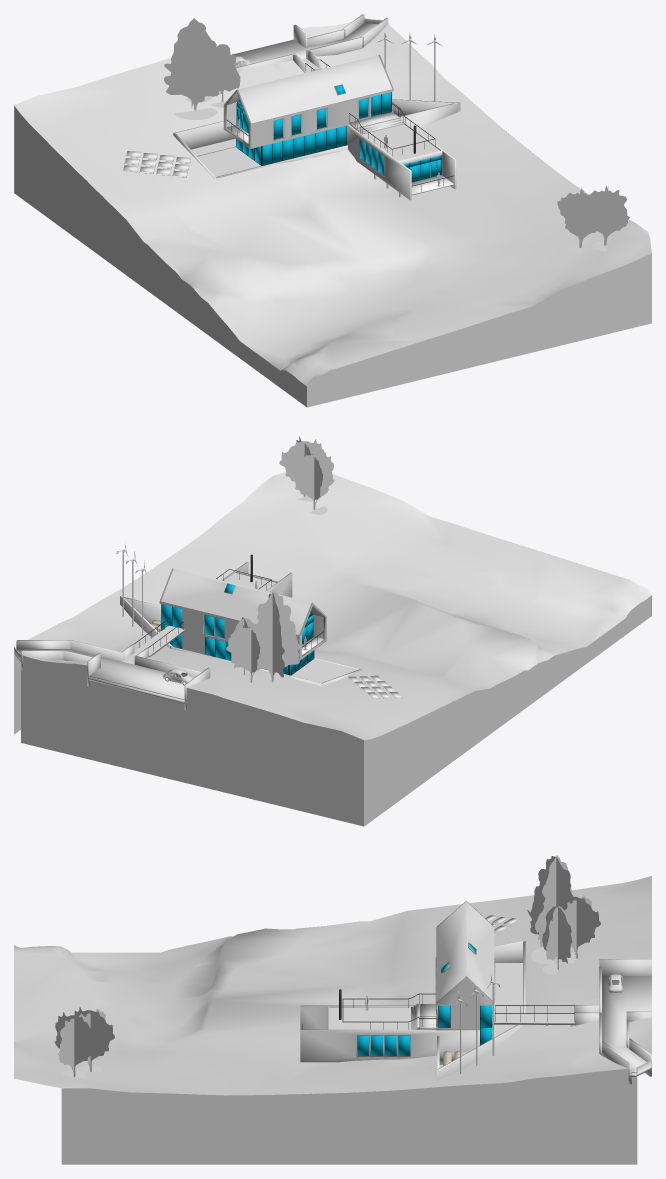
3 renders of one model, top to bottom at view 1: azimuth 30°, elevation 25°; view 2: azimuth 150°, elevation 25°; view 3: azimuth 270°, elevation 25°, orthographic. The views are drawn at different scales.
Visible parts, largest first — view 1: Grass, Earth, Default material, Roofing - Metal Standing Seam, Glass, Concrete, Sand/Cement Screed, Concrete, Cast In Situ, Concrete - Cast In Situ, CL Concrete_ panels, Finishes - Exterior - Timber Cladding, Roofing - Asphalt, Glass - SolarWorld - Tempered Glass (+3 smaller); view 2: Grass, Earth, Default material, Roofing - Metal Standing Seam, Concrete - Cast In Situ, Concrete, Sand/Cement Screed, Concrete, Cast In Situ, Glass, Finishes - Exterior - Timber Cladding, CL Concrete_ panels; view 3: Grass, Earth, Default material, Finishes - Exterior - Timber Cladding, Roofing - Metal Standing Seam, Concrete, Sand/Cement Screed, Concrete, Cast In Situ, Concrete - Cast In Situ, CL Concrete_ panels, Glass, Roofing - Asphalt, Iron, Cast (+2 smaller).
Boxes of the visible parts, <box> form: Grass: <box>14,18,651,385</box>; Earth: <box>14,25,651,407</box>; Default material: <box>164,18,629,253</box>; Roofing - Metal Standing Seam: <box>238,55,391,123</box>; Glass: <box>236,84,441,181</box>; Concrete, Sand/Cement Screed: <box>191,59,393,176</box>; Concrete, Cast In Situ: <box>234,23,460,133</box>; Concrete - Cast In Situ: <box>236,14,388,72</box>; CL Concrete_ panels: <box>173,99,459,178</box>; Finishes - Exterior - Timber Cladding: <box>347,120,456,200</box>; Roofing - Asphalt: <box>362,124,439,160</box>; Glass - SolarWorld - Tempered Glass: <box>123,151,190,175</box>; Grass: <box>14,472,651,740</box>; Earth: <box>14,576,651,826</box>; Default material: <box>14,436,334,703</box>; Roofing - Metal Standing Seam: <box>161,569,311,634</box>; Concrete - Cast In Situ: <box>16,640,210,710</box>; Concrete, Sand/Cement Screed: <box>122,601,357,682</box>; Concrete, Cast In Situ: <box>14,597,185,699</box>; Glass: <box>161,583,313,675</box>; Finishes - Exterior - Timber Cladding: <box>182,562,292,654</box>; CL Concrete_ panels: <box>120,596,361,686</box>; Grass: <box>14,876,651,1095</box>; Earth: <box>61,926,637,1164</box>; Default material: <box>54,855,651,1078</box>; Finishes - Exterior - Timber Cladding: <box>300,1005,479,1062</box>; Roofing - Metal Standing Seam: <box>436,901,494,1001</box>; Concrete, Sand/Cement Screed: <box>436,963,574,1036</box>; Concrete, Cast In Situ: <box>411,976,651,1072</box>; Concrete - Cast In Situ: <box>575,959,651,1084</box>; CL Concrete_ panels: <box>435,940,525,1080</box>; Glass: <box>357,943,492,1055</box>; Roofing - Asphalt: <box>329,1008,410,1029</box>; Iron, Cast: <box>302,989,574,1029</box>.
Bounding box in the file's own units: 50.43 × 23 × 70.36.
